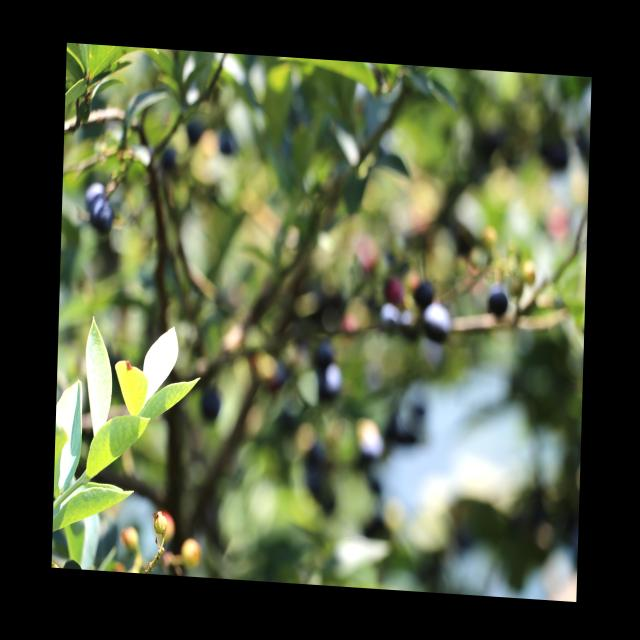blueberry: (422, 300, 454, 343), (86, 193, 114, 230), (484, 284, 510, 322)
blueberry-unripe: (151, 509, 169, 539)
